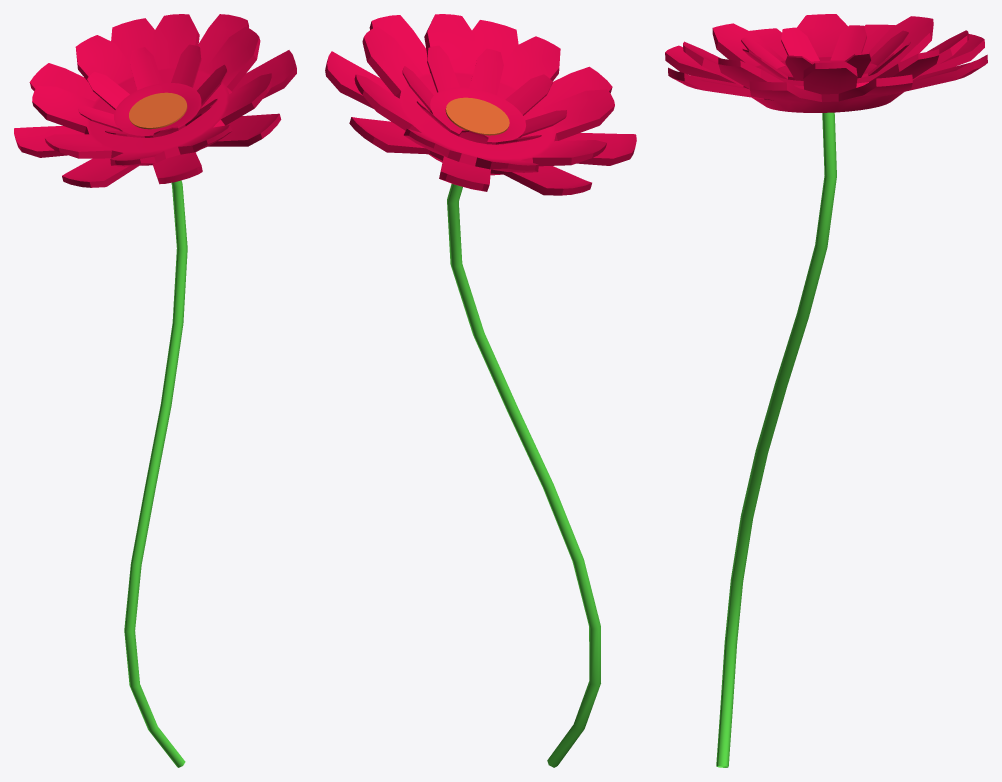
File: flower big.fbx
3 renders of one model, left to right at view 1: azimuth 30°, elevation 25°; view 2: azimuth 150°, elevation 25°; view 3: azimuth 270°, elevation 25°, orthographic. The views are drawn at different scales.
Parts seen in each view (by area): view 1: flower base; view 2: flower base; view 3: flower base.
Part boxes in pixels (box(x1,y1,x2,y2)): flower base: box(14, 14, 296, 767); flower base: box(325, 14, 636, 767); flower base: box(665, 14, 987, 767).
Size of the model in its own units: 0.3727 by 1.01 by 0.3828.
